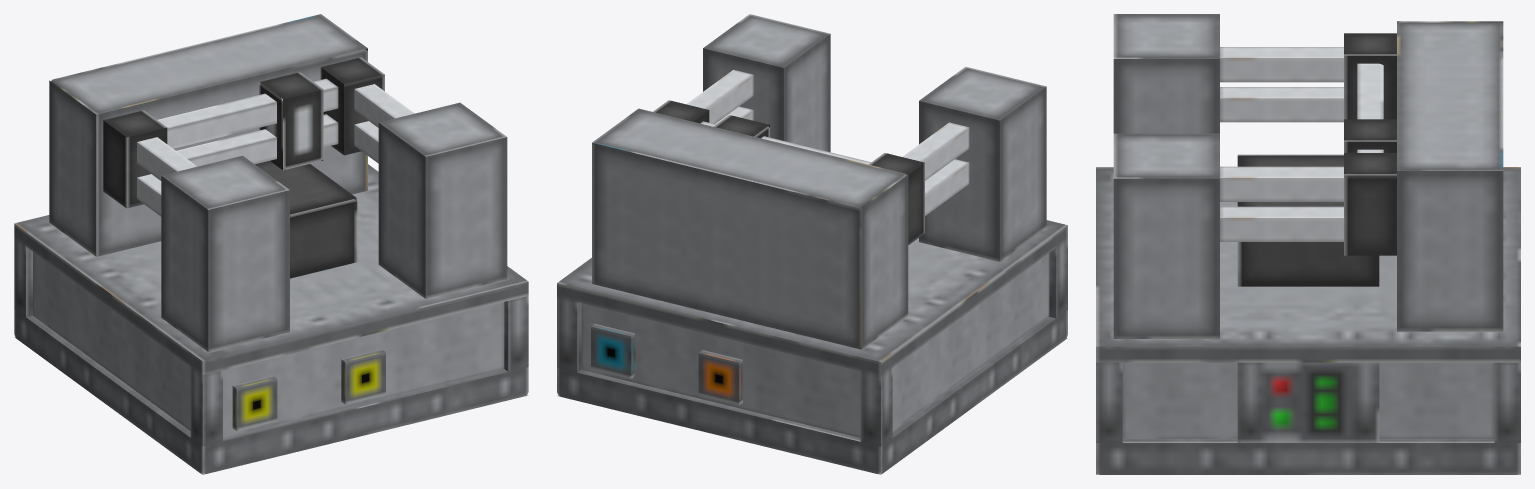
Rendered from precisionlaseretcher.obj.
3 views of the same model, side by side, from view 1: azimuth 30°, elevation 25°; view 2: azimuth 150°, elevation 25°; view 3: azimuth 270°, elevation 25° (orthographic). The views are drawn at different scales.
Parts seen in each view (by area): view 1: Hull, Mount, Laser; view 2: Hull, Mount, Laser; view 3: Hull, Mount, Laser.
Boxes of the visible parts, x1=… form: Hull: x1=14, y1=14, x2=528, y2=474; Mount: x1=103, y1=57, x2=384, y2=208; Laser: x1=259, y1=72, x2=323, y2=170; Hull: x1=557, y1=14, x2=1067, y2=474; Mount: x1=653, y1=100, x2=924, y2=244; Laser: x1=713, y1=115, x2=769, y2=138; Hull: x1=1096, y1=14, x2=1520, y2=474; Mount: x1=1344, y1=33, x2=1396, y2=255; Laser: x1=1344, y1=119, x2=1396, y2=152.
Size of the model in its own units: 3 by 2.25 by 3.
